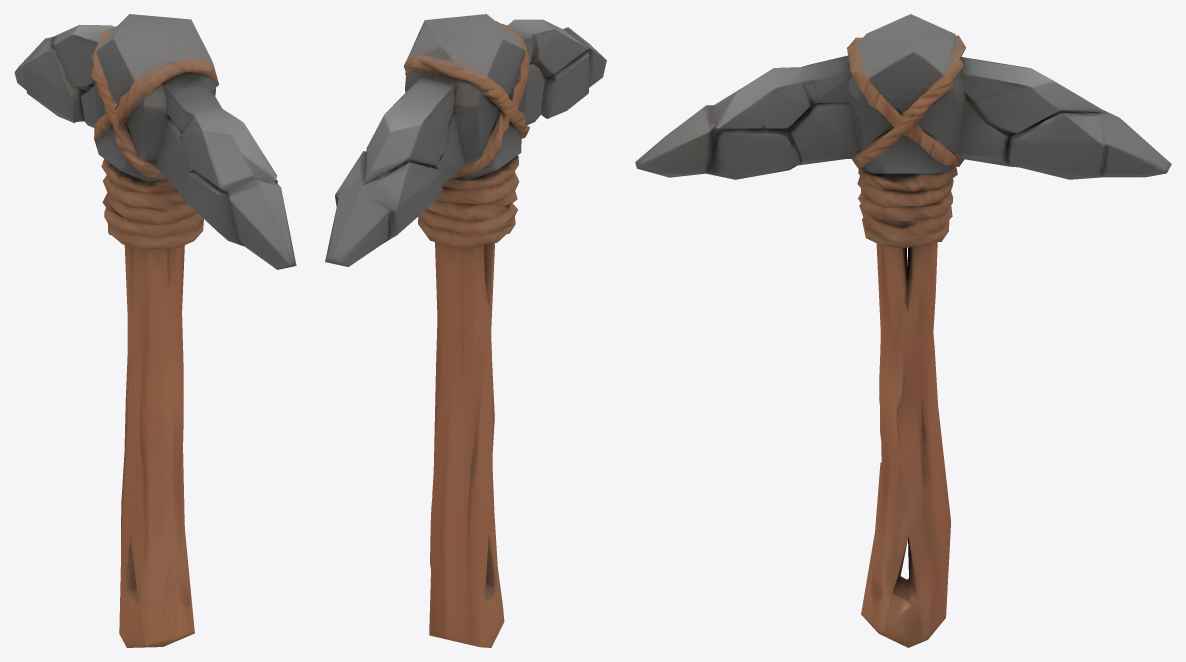
The model's file is base_basic_shaded.fbx.
The picture shows the model from 3 angles, left to right: view 1: azimuth 30°, elevation 25°; view 2: azimuth 150°, elevation 25°; view 3: azimuth 270°, elevation 25°; orthographic projection.
Parts seen in each view (by area): view 1: model; view 2: model; view 3: model.
Boxes of the visible parts, x1,y1,x2,y2 form: model: (14, 14, 296, 647); model: (325, 14, 606, 647); model: (635, 14, 1171, 647).
Bounding box in the file's own units: 28.85 × 175 × 141.
